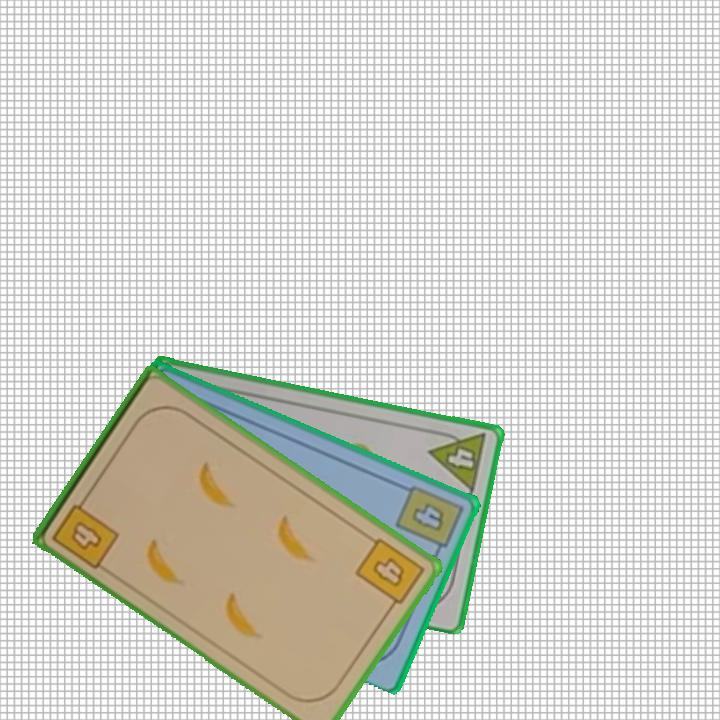4b: (351, 534, 428, 615), (48, 491, 122, 572), (392, 481, 466, 560)
4p: (425, 425, 490, 495)
